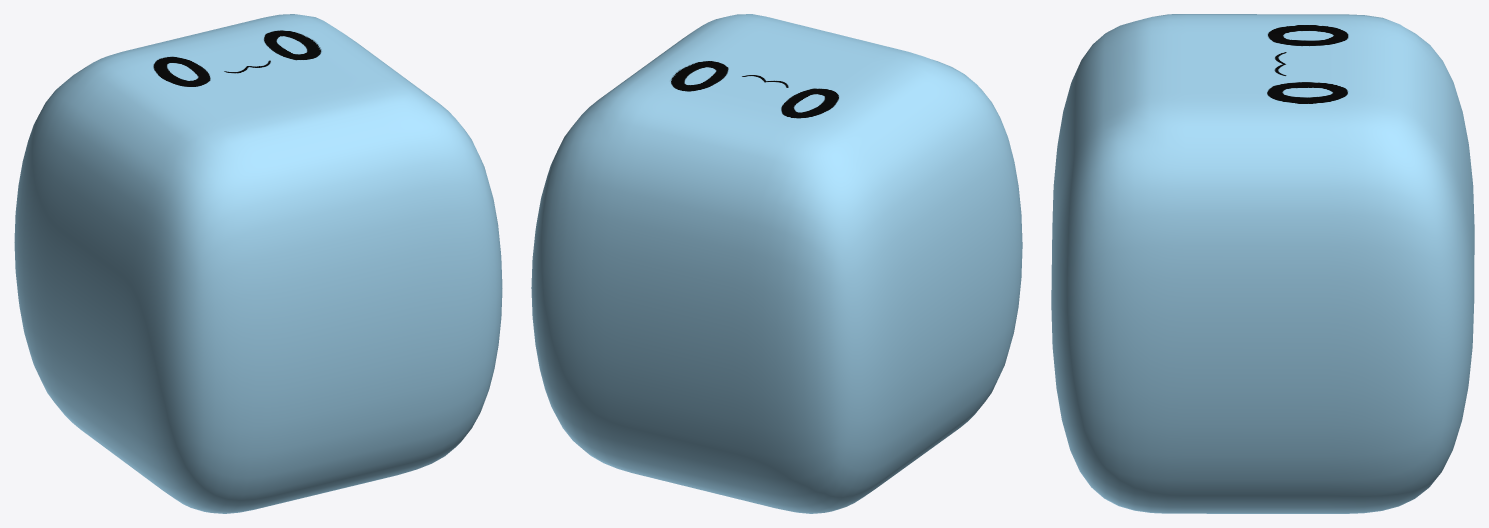
The model's file is blue_face.fbx.
3 views of the same model, side by side, from view 1: azimuth 30°, elevation 25°; view 2: azimuth 150°, elevation 25°; view 3: azimuth 270°, elevation 25° (orthographic). The views are drawn at different scales.
Visible parts, largest first — view 1: blue_face; view 2: blue_face; view 3: blue_face.
Boxes of the visible parts, x1=… form: blue_face: x1=14, y1=14, x2=502, y2=513; blue_face: x1=531, y1=14, x2=1022, y2=513; blue_face: x1=1051, y1=14, x2=1474, y2=513.
Size of the model in its own units: 0.9746 by 1.01 by 0.9751.
